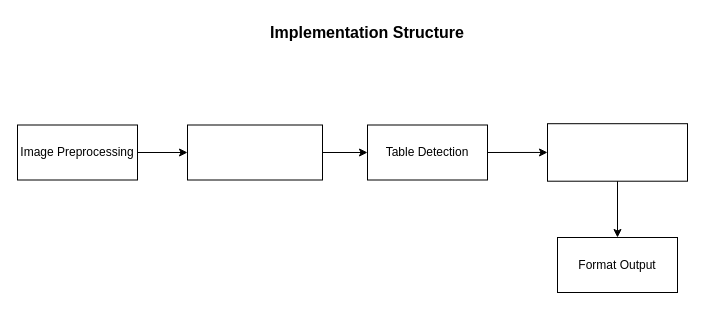
Image size: 705x310. Some labels were removed from this diagram. Here are the shapes that lost their labels. From the top down, the centre of each, then its label:
(254,152): OCR Text Extraction
(617,152): Data Parsing
